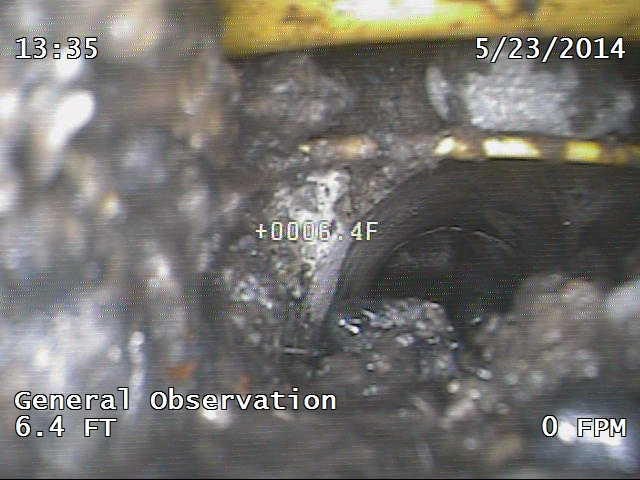cb: (243, 119, 640, 184)
